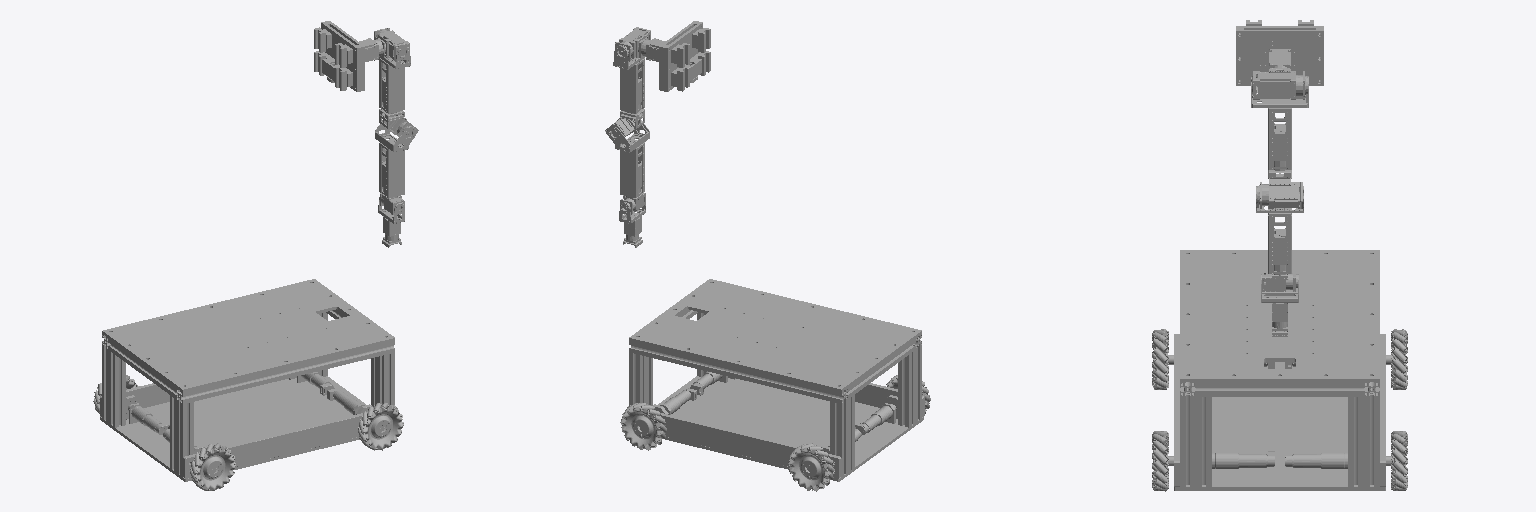
robot.urdf — mobilerobot:
<?xml version="1.0" ?>
<!-- =================================================================================== -->
<!-- |    This document was autogenerated by xacro from mobilerobot.urdf.xacro         | -->
<!-- |    EDITING THIS FILE BY HAND IS NOT RECOMMENDED                                 | -->
<!-- =================================================================================== -->
<robot name="mobilerobot" xmlns:xacro="http://wiki.ros.org/xacro">
  <link name="base_link">
    <visual>
      <origin rpy="1.57079632679 0 1.57079632679" xyz="0 0 0"/>
      <geometry>
        <mesh filename="package://mobilerobot_description/meshes/base_link.stl" scale="0.001 0.001 0.001"/>
      </geometry>
      <material name="LightGrey">
        <color rgba="0.7 0.7 0.7 1.0"/>
      </material>
    </visual>
    <collision>
      <origin rpy="1.57079632679 0 1.57079632679" xyz="0 0 0"/>
      <geometry>
        <mesh filename="package://mobilerobot_description/meshes/base_link.stl" scale="0.001 0.001 0.001"/>
      </geometry>
      <material name="LightGrey">
        <color rgba="0.7 0.7 0.7 1.0"/>
      </material>
    </collision>
  </link>
  <joint name="forward_left_joint" type="continuous">
    <parent link="base_link"/>
    <child link="forward_left_mecanum_link"/>
    <origin rpy="0 0 0" xyz="0.3 0.3 0.040"/>
    <axis xyz="0 1 0"/>
  </joint>
  <link name="forward_left_mecanum_link">
    <visual>
      <origin rpy="0 0 1.57079632679" xyz="0 -0.13077 0"/>
      <geometry>
        <mesh filename="package://mobilerobot_description/meshes/mecanum_link.stl" scale="0.001 0.001 0.001"/>
      </geometry>
      <material name="LightGrey">
        <color rgba="0.7 0.7 0.7 1.0"/>
      </material>
    </visual>
    <collision>
      <origin rpy="1.57079632679 0 0" xyz="0 0 0"/>
      <geometry>
        <cylinder length="0.041" radius="0.075565"/>
      </geometry>
      <material name="LightGrey">
        <color rgba="0.7 0.7 0.7 1.0"/>
      </material>
    </collision>
  </link>
  <joint name="forward_right_joint" type="continuous">
    <parent link="base_link"/>
    <child link="forward_right_mecanum_link"/>
    <origin rpy="0 0 0" xyz="0.3 -0.3 0.04"/>
    <axis xyz="0 -1 0"/>
  </joint>
  <link name="forward_right_mecanum_link">
    <visual>
      <origin rpy="0 0 -1.57079632679" xyz="0 0.13077 0"/>
      <geometry>
        <mesh filename="package://mobilerobot_description/meshes/mecanum_link.stl" scale="0.001 0.001 0.001"/>
      </geometry>
      <material name="LightGrey">
        <color rgba="0.7 0.7 0.7 1.0"/>
      </material>
    </visual>
    <collision>
      <origin rpy="1.57079632679 0 0" xyz="0 0 0"/>
      <geometry>
        <cylinder length="0.041" radius="0.075565"/>
      </geometry>
      <material name="LightGrey">
        <color rgba="0.7 0.7 0.7 1.0"/>
      </material>
    </collision>
  </link>
  <joint name="backward_left_joint" type="continuous">
    <parent link="base_link"/>
    <child link="backward_left_mecanum_link"/>
    <origin rpy="0 0 0" xyz="-0.3 0.3 0.04"/>
    <axis xyz="0 1 0 "/>
  </joint>
  <link name="backward_left_mecanum_link">
    <visual>
      <origin rpy="0 0 1.57079632679" xyz="0 -0.13077 0"/>
      <geometry>
        <mesh filename="package://mobilerobot_description/meshes/mecanum_link.stl" scale="0.001 0.001 0.001"/>
      </geometry>
      <material name="LightGrey">
        <color rgba="0.7 0.7 0.7 1.0"/>
      </material>
    </visual>
    <collision>
      <origin rpy="1.57079632679 0 0" xyz="0 0 0"/>
      <geometry>
        <cylinder length="0.041" radius="0.075565"/>
      </geometry>
      <material name="LightGrey">
        <color rgba="0.7 0.7 0.7 1.0"/>
      </material>
    </collision>
  </link>
  <joint name="backward_right_joint" type="continuous">
    <parent link="base_link"/>
    <child link="backward_right_mecanum_link"/>
    <origin rpy="0 0 0 " xyz="-0.3 -0.3 0.04"/>
    <axis xyz="0 -1 0"/>
  </joint>
  <link name="backward_right_mecanum_link">
    <visual>
      <origin rpy="0 0 -1.57079632679" xyz="0 0.13077 0"/>
      <geometry>
        <mesh filename="package://mobilerobot_description/meshes/mecanum_link.stl" scale="0.001 0.001 0.001"/>
      </geometry>
      <material name="LightGrey">
        <color rgba="0.7 0.7 0.7 1.0"/>
      </material>
    </visual>
    <collision>
      <origin rpy="1.57079632679 0 0" xyz="0 0 0"/>
      <geometry>
        <cylinder length="0.041" radius="0.075565"/>
      </geometry>
      <material name="LightGrey">
        <color rgba="0.7 0.7 0.7 1.0"/>
      </material>
    </collision>
  </link>
  <transmission name="forward_left_joint_trans">
    <type>transmission_interface/SimpleTransmission</type>
    <joint name="forward_left_joint">
      <hardwareInterface>hardware_interface/VelocityActuatorInterface</hardwareInterface>
    </joint>
    <actuator name="forward_left_actuator">
      <mechanicalReduction>156</mechanicalReduction>
    </actuator>
  </transmission>
  <transmission name="backward_left_joint_trans">
    <type>transmission_interface/SimpleTransmission</type>
    <joint name="backward_left_joint">
      <hardwareInterface>hardware_interface/VelocityActuatorInterface</hardwareInterface>
    </joint>
    <actuator name="backward_left_actuator">
      <mechanicalReduction>156</mechanicalReduction>
    </actuator>
  </transmission>
  <transmission name="backward_right_joint_trans">
    <type>transmission_interface/SimpleTransmission</type>
    <joint name="backward_right_joint">
      <hardwareInterface>hardware_interface/VelocityActuatorInterface</hardwareInterface>
    </joint>
    <actuator name="backward_right_actuator">
      <mechanicalReduction>156</mechanicalReduction>
    </actuator>
  </transmission>
  <transmission name="forward_right_joint_trans">
    <type>transmission_interface/SimpleTransmission</type>
    <joint name="forward_right_joint">
      <hardwareInterface>hardware_interface/VelocityActuatorInterface</hardwareInterface>
    </joint>
    <actuator name="forward_right_actuator">
      <mechanicalReduction>156</mechanicalReduction>
    </actuator>
  </transmission>
  <link name="link1">
    <visual>
      <origin rpy="0 0 -1.57079632679" xyz="0.09 0 0"/>
      <geometry>
        <mesh filename="package://mobilerobot_description/meshes/manipulator/link1.stl" scale="0.001 0.001 0.001"/>
      </geometry>
      <material name="LightGrey">
        <color rgba="0.7 0.7 0.7 1.0"/>
      </material>
    </visual>
  </link>
  <joint name="joint1" type="revolute">
    <parent link="link1"/>
    <child link="link2"/>
    <origin rpy="0 0 0" xyz="0.126 0 0"/>
    <axis xyz="1 0 0"/>
    <limit effort="1000" lower="-1.57079632679" upper="1.57079632679" velocity="6.5"/>
    <dynamics damping="0.7"/>
  </joint>
  <link name="link2">
    <visual>
      <origin rpy="0 1.57079632679 0" xyz="0.033 0.033 0"/>
      <geometry>
        <mesh filename="package://mobilerobot_description/meshes/manipulator/link2.stl" scale="0.001 0.001 0.001"/>
      </geometry>
      <material name="LightGrey">
        <color rgba="0.7 0.7 0.7 1.0"/>
      </material>
    </visual>
  </link>
  <joint name="joint2" type="revolute">
    <parent link="link2"/>
    <child link="link3"/>
    <origin rpy="0 0 0" xyz="0.033 0.069 0"/>
    <axis xyz="0 1 0"/>
    <limit effort="1000" lower="-1.57079632679" upper="0" velocity="6.5"/>
    <dynamics damping="0.7"/>
  </joint>
  <link name="link3">
    <visual>
      <origin rpy="-1.57079632679 0 0" xyz="0 -0.069 0"/>
      <geometry>
        <mesh filename="package://mobilerobot_description/meshes/manipulator/link3.stl" scale="0.001 0.001 0.001"/>
      </geometry>
      <material name="LightGrey">
        <color rgba="0.7 0.7 0.7 1.0"/>
      </material>
    </visual>
  </link>
  <joint name="joint3" type="revolute">
    <parent link="link3"/>
    <child link="link4"/>
    <origin rpy="0 0 0" xyz="0 -0.069 -0.22541"/>
    <axis xyz="0 0 -1"/>
    <limit effort="1000" lower="-1.57079632679" upper="1.57079632679" velocity="6.5"/>
    <dynamics damping="0.7"/>
  </joint>
  <link name="link4">
    <visual>
      <origin rpy="-1.57079632679 0 0" xyz="0 0 -0.003"/>
      <geometry>
        <mesh filename="package://mobilerobot_description/meshes/manipulator/link4.stl" scale="0.001 0.001 0.001"/>
      </geometry>
      <material name="LightGrey">
        <color rgba="0.7 0.7 0.7 1.0"/>
      </material>
    </visual>
  </link>
  <joint name="joint4" type="revolute">
    <parent link="link4"/>
    <child link="link5"/>
    <origin rpy="0 0 0" xyz="0.03 -0.057 -0.063"/>
    <axis xyz="0 -1 0"/>
    <limit effort="1000" lower="-1.57079632679" upper="1.57079632679" velocity="6.5"/>
    <dynamics damping="0.7"/>
  </joint>
  <link name="link5">
    <visual>
      <origin rpy="-1.57079632679 0 0" xyz="-0.03 0.057 -0.051"/>
      <geometry>
        <mesh filename="package://mobilerobot_description/meshes/manipulator/link5.stl" scale="0.001 0.001 0.001"/>
      </geometry>
      <material name="LightGrey">
        <color rgba="0.7 0.7 0.7 1.0"/>
      </material>
    </visual>
  </link>
  <joint name="joint5" type="revolute">
    <parent link="link5"/>
    <child link="link6"/>
    <origin rpy="0 0 0" xyz="-0.03 0.057 -0.225"/>
    <axis xyz="0 0 -1"/>
    <limit effort="1000" lower="-1.57079632679" upper="1.57079632679" velocity="6.5"/>
    <dynamics damping="0.7"/>
  </joint>
  <link name="link6">
    <visual>
      <origin rpy="-1.57079632679 0 3.14159265359" xyz="0 0 -0.003"/>
      <geometry>
        <mesh filename="package://mobilerobot_description/meshes/manipulator/link6.stl" scale="0.001 0.001 0.001"/>
      </geometry>
      <material name="LightGrey">
        <color rgba="0.7 0.7 0.7 1.0"/>
      </material>
    </visual>
  </link>
  <joint name="joint6" type="revolute">
    <parent link="link6"/>
    <child link="link7"/>
    <origin rpy="0 0 0" xyz="0 0.045 -0.027"/>
    <axis xyz="0 1 0"/>
    <limit effort="1000" lower="-1.57079632679" upper="1.57079632679" velocity="6.5"/>
    <dynamics damping="0.7"/>
  </joint>
  <link name="link7">
    <visual>
      <origin rpy="1.57079632679 0 0" xyz="0 -0.045 -0.049"/>
      <geometry>
        <mesh filename="package://mobilerobot_description/meshes/manipulator/link7.stl" scale="0.001 0.001 0.001"/>
      </geometry>
      <material name="LightGrey">
        <color rgba="0.7 0.7 0.7 1.0"/>
      </material>
    </visual>
  </link>
  <joint name="joint7" type="revolute">
    <parent link="link7"/>
    <child link="end_link"/>
    <origin rpy="0 0 0" xyz="0 -0.045 -0.133"/>
    <axis xyz="0 0 -1"/>
    <limit effort="1000" lower="-1.57079632679" upper="1.57079632679" velocity="6.5"/>
    <dynamics damping="0.7"/>
  </joint>
  <link name="end_link">
    <visual>
      <origin rpy="-1.57079632679 0 0" xyz="0 0 0"/>
      <geometry>
        <mesh filename="package://mobilerobot_description/meshes/manipulator/end_link.stl" scale="0.001 0.001 0.001"/>
      </geometry>
      <material name="LightGrey">
        <color rgba="0.7 0.7 0.7 1.0"/>
      </material>
    </visual>
  </link>
  <link name="world"/>
  <joint name="world_joint" type="fixed">
    <parent link="world"/>
    <child link="base_link"/>
    <origin rpy="0.0 0.0 0.0" xyz="0.0 0.0 0.0"/>
  </joint>
  <joint name="ball_screw_joint" type="prismatic">
    <parent link="base_link"/>
    <child link="ball_screw_link"/>
    <origin rpy="0 0 0" xyz="0.305 0 1.1"/>
    <limit effort="1" lower="-0.77" upper="0" velocity="1"/>
    <axis xyz="0 0 1"/>
  </joint>
  <link name="ball_screw_link">
    <visual>
      <origin rpy="1.57079632679 0 1.57079632679" xyz="0.028 -0.11 0"/>
      <geometry>
        <mesh filename="package://mobilerobot_description/meshes/ball_screw_link.stl" scale="0.001 0.001 0.001"/>
      </geometry>
      <material name="LightGrey">
        <color rgba="0.7 0.7 0.7 1.0"/>
      </material>
    </visual>
  </link>
  <joint name="manipulator_fixed" type="fixed">
    <parent link="ball_screw_link"/>
    <child link="link1"/>
    <origin rpy="0 0 0" xyz="0.048 0 0.075"/>
  </joint>
</robot>

--- What the picture shows (computed from the rendered views, not written in the file) ---
The picture shows the robot from 3 angles, left to right: view 1: azimuth 30°, elevation 25°; view 2: azimuth 150°, elevation 25°; view 3: azimuth 270°, elevation 25°; orthographic projection.
Robot: mobilerobot — 15 links, 14 joints (7 revolute, 4 continuous, 1 prismatic, 2 fixed); root link world; default pose: all joints at 0.
Links seen in each view (by area): view 1: base_link, ball_screw_link, link5, forward_right_mecanum_link, backward_right_mecanum_link, link3, link7, link2, link4; view 2: base_link, ball_screw_link, link5, forward_left_mecanum_link, backward_left_mecanum_link, link3, link7, link4, link2; view 3: base_link, ball_screw_link, link3, link5, link2, link4, backward_right_mecanum_link, forward_right_mecanum_link, forward_left_mecanum_link, backward_left_mecanum_link, link7, link6.
Link boxes in pixels (<box>): base_link: <box>100,279,397,481</box>; ball_screw_link: <box>314,21,364,91</box>; link5: <box>375,124,415,198</box>; forward_right_mecanum_link: <box>358,402,403,450</box>; backward_right_mecanum_link: <box>190,443,235,490</box>; link3: <box>379,29,410,113</box>; link7: <box>378,197,404,243</box>; link2: <box>374,28,409,61</box>; link4: <box>379,109,418,136</box>; base_link: <box>627,279,924,481</box>; ball_screw_link: <box>659,21,710,91</box>; link5: <box>608,120,649,197</box>; forward_left_mecanum_link: <box>620,403,666,450</box>; backward_left_mecanum_link: <box>788,443,834,491</box>; link3: <box>613,46,644,113</box>; link7: <box>619,203,645,243</box>; link4: <box>605,109,644,142</box>; link2: <box>615,27,650,61</box>; base_link: <box>1174,250,1385,490</box>; ball_screw_link: <box>1236,20,1323,85</box>; link3: <box>1251,76,1308,170</box>; link5: <box>1256,186,1303,275</box>; link2: <box>1252,69,1307,99</box>; link4: <box>1257,170,1302,208</box>; backward_right_mecanum_link: <box>1152,329,1173,389</box>; forward_right_mecanum_link: <box>1152,431,1173,491</box>; forward_left_mecanum_link: <box>1386,431,1407,490</box>; backward_left_mecanum_link: <box>1386,329,1407,389</box>; link7: <box>1261,274,1298,330</box>; link6: <box>1262,270,1297,291</box>.
Size in the robot's own frame: 0.9588 by 0.6423 by 1.29 metres.
Meshes: 11 distinct files referenced, 14 mesh visuals loaded (11 binary STL).